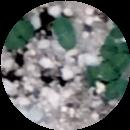Basil: (97, 51, 130, 79), (8, 22, 35, 49), (54, 20, 74, 51), (104, 81, 127, 99)
